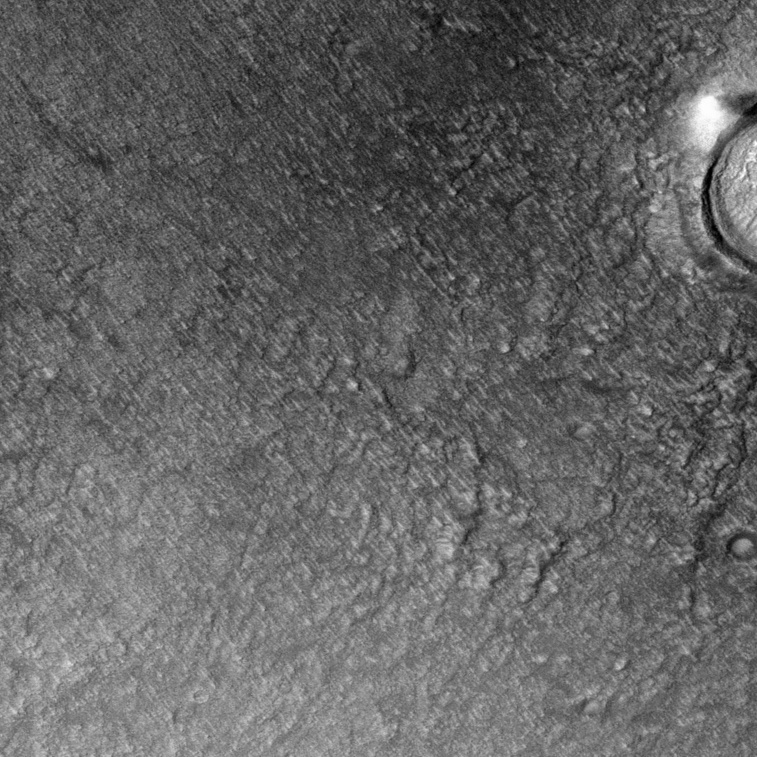dust_devil: (691, 87, 757, 156)
